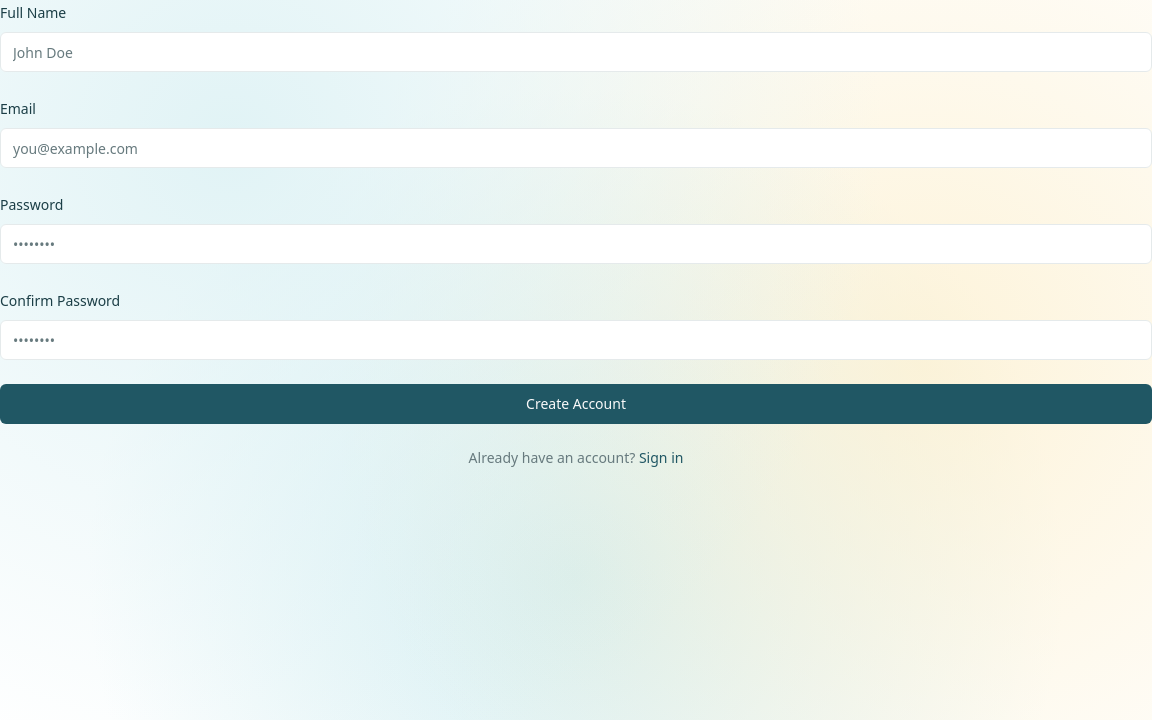
Test: SignupForm › shows validation error for short full name
In the field labelled "Full Name": (576, 52) top-left (0, 32), bottom-right (1151, 72), type "A"
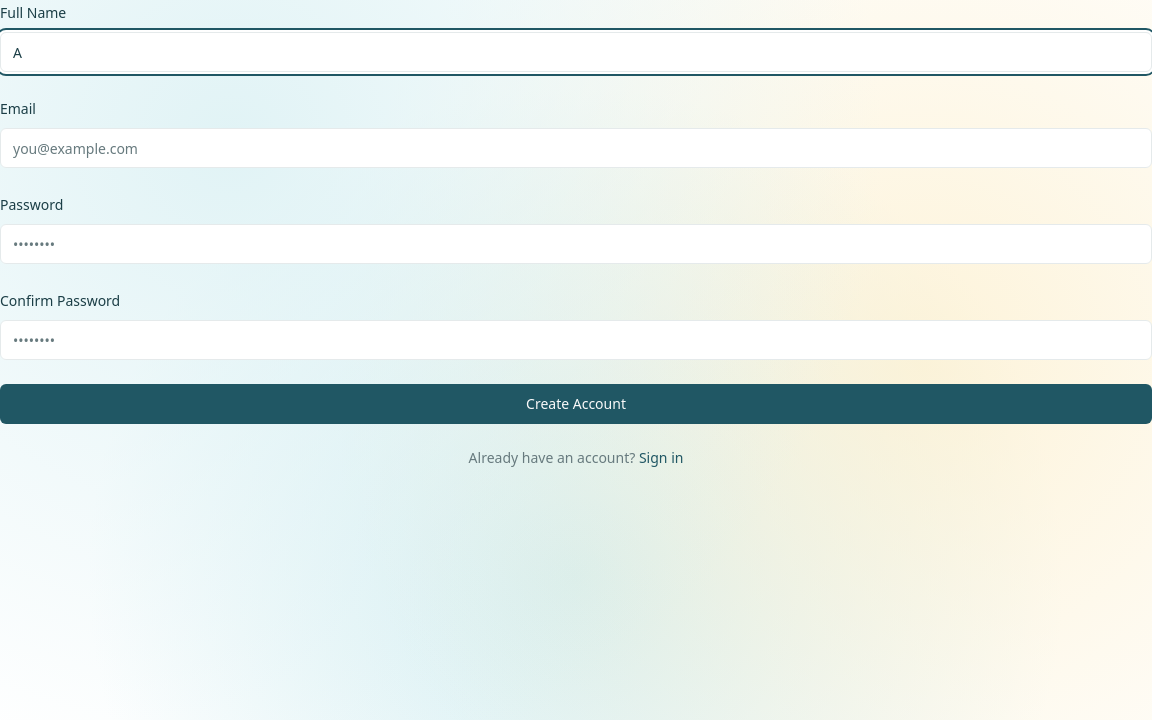
Click the button "Create Account": click(576, 404) top-left (0, 384), bottom-right (1151, 424)
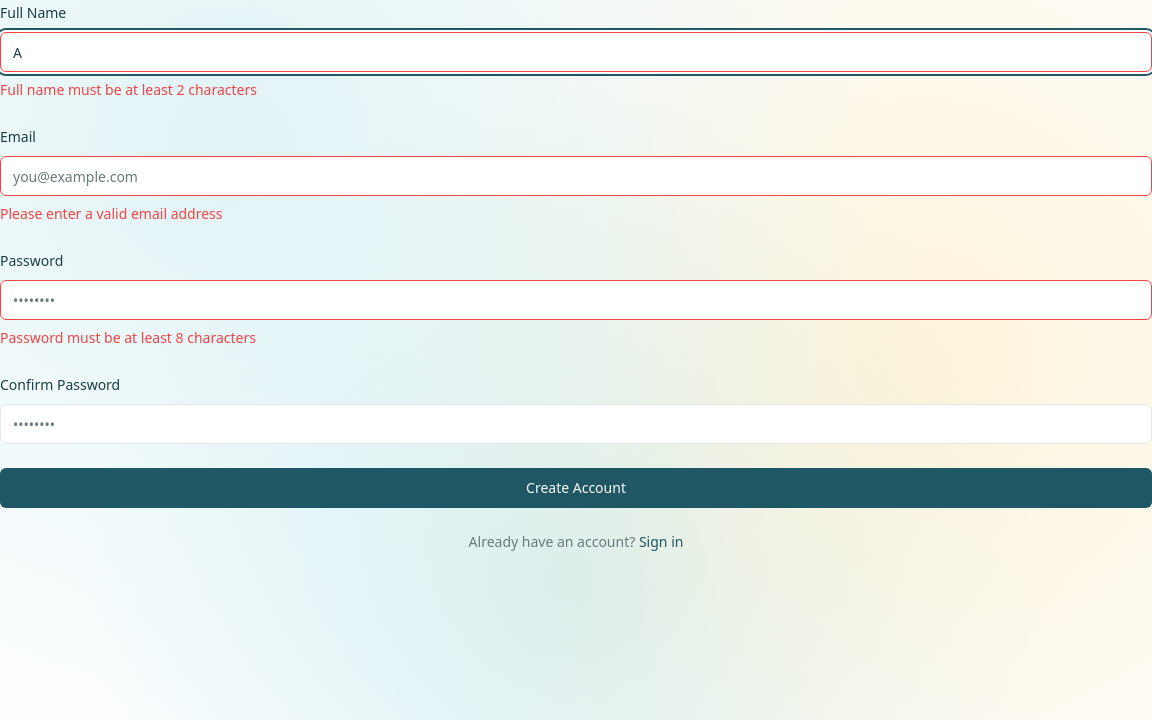
Check: the text "Full name must be at least 2 characters" is shown, box top-left (0, 80), bottom-right (257, 99)
